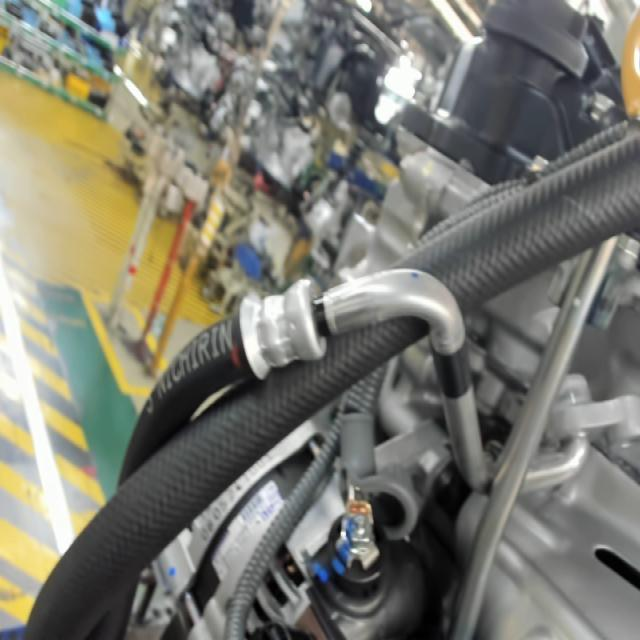Alternator-BA1: (255, 483, 285, 523)
Hose Discharge-HT: (428, 334, 476, 404)
